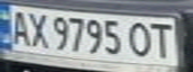5: (103, 17, 127, 56)
7: (66, 15, 84, 53)
9: (48, 12, 72, 52), (84, 16, 106, 55)
A: (6, 7, 33, 46)
O: (124, 19, 157, 58)
T: (145, 19, 178, 57)
X: (24, 9, 51, 48)
